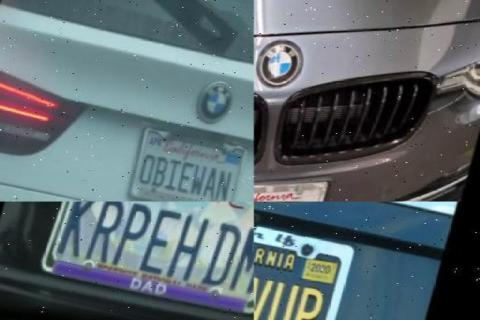LicensePlate: (43, 202, 254, 312), (254, 201, 380, 320), (126, 118, 253, 202), (252, 175, 328, 201)
